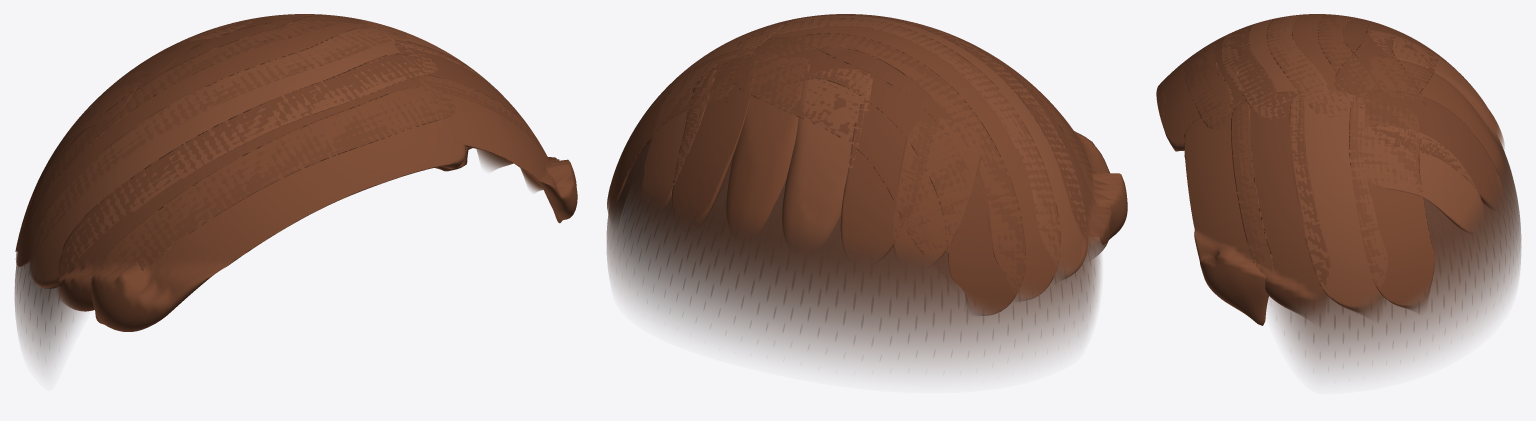
Rendered from Masculine-taper-cap258-hair.glb.
3 renders of one model, left to right at view 1: azimuth 30°, elevation 25°; view 2: azimuth 150°, elevation 25°; view 3: azimuth 270°, elevation 25°, orthographic. The views are drawn at different scales.
Visible parts, largest first — view 1: 226 hair / Hair258 / sculpted side sweep 1, 226 hair / Hair258 / sculpted side sweep 0, 226 hair / Hair258 / sculpted side sweep 2, 226 hair / Hair258 / smooth side fade; view 2: 226 hair / Hair258 / smooth side fade, 226 hair / Hair258 / sculpted side sweep 0, 226 hair / Hair258 / sculpted side sweep 1, 226 hair / Hair258 / sculpted side sweep 2, 226 hair / Hair258 / directional fade marks; view 3: 226 hair / Hair258 / sculpted side sweep 1, 226 hair / Hair258 / sculpted side sweep 0, 226 hair / Hair258 / sculpted side sweep 2, 226 hair / Hair258 / smooth side fade, 226 hair / Hair258 / directional fade marks.
Boxes of the visible parts, x1=… form: 226 hair / Hair258 / sculpted side sweep 1: x1=15, y1=14, x2=577, y2=331; 226 hair / Hair258 / sculpted side sweep 0: x1=15, y1=14, x2=559, y2=311; 226 hair / Hair258 / sculpted side sweep 2: x1=29, y1=18, x2=513, y2=288; 226 hair / Hair258 / smooth side fade: x1=15, y1=260, x2=82, y2=368; 226 hair / Hair258 / smooth side fade: x1=607, y1=140, x2=1100, y2=372; 226 hair / Hair258 / sculpted side sweep 0: x1=672, y1=14, x2=1112, y2=315; 226 hair / Hair258 / sculpted side sweep 1: x1=607, y1=18, x2=1127, y2=301; 226 hair / Hair258 / sculpted side sweep 2: x1=616, y1=14, x2=1088, y2=279; 226 hair / Hair258 / directional fade marks: x1=618, y1=150, x2=1094, y2=346; 226 hair / Hair258 / sculpted side sweep 1: x1=1156, y1=14, x2=1504, y2=325; 226 hair / Hair258 / sculpted side sweep 0: x1=1184, y1=14, x2=1503, y2=316; 226 hair / Hair258 / sculpted side sweep 2: x1=1221, y1=14, x2=1504, y2=313; 226 hair / Hair258 / smooth side fade: x1=1268, y1=128, x2=1521, y2=375; 226 hair / Hair258 / directional fade marks: x1=1291, y1=128, x2=1516, y2=357.
Bounding box in the file's own units: 0.9706 × 0.584 × 0.7197.
